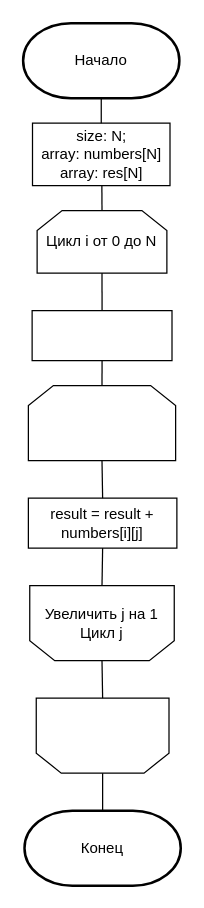
The diagram is 204 pixels wide and 908 high, and some of its shapes have lost their labels. Each missing label, with the centre of its shape:
"result = 0" goes at (101,335).
"Увеличить i на 1 Цикл i" goes at (102,735).
"Цикл j от 0 до numbers[i].size()" goes at (101,422).
